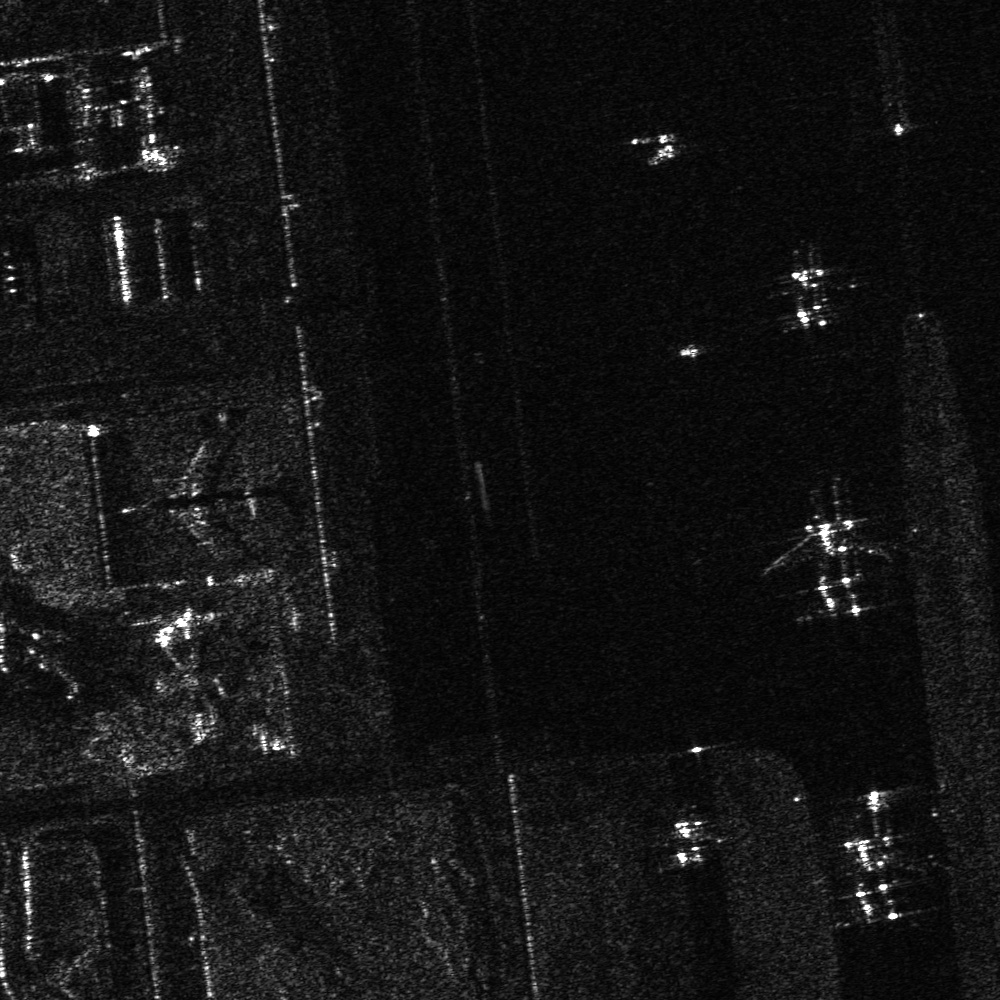A220: (648, 809, 727, 874)
Boeing787: (759, 236, 859, 334)
other: (107, 400, 306, 575), (761, 494, 899, 622), (822, 796, 944, 931)
